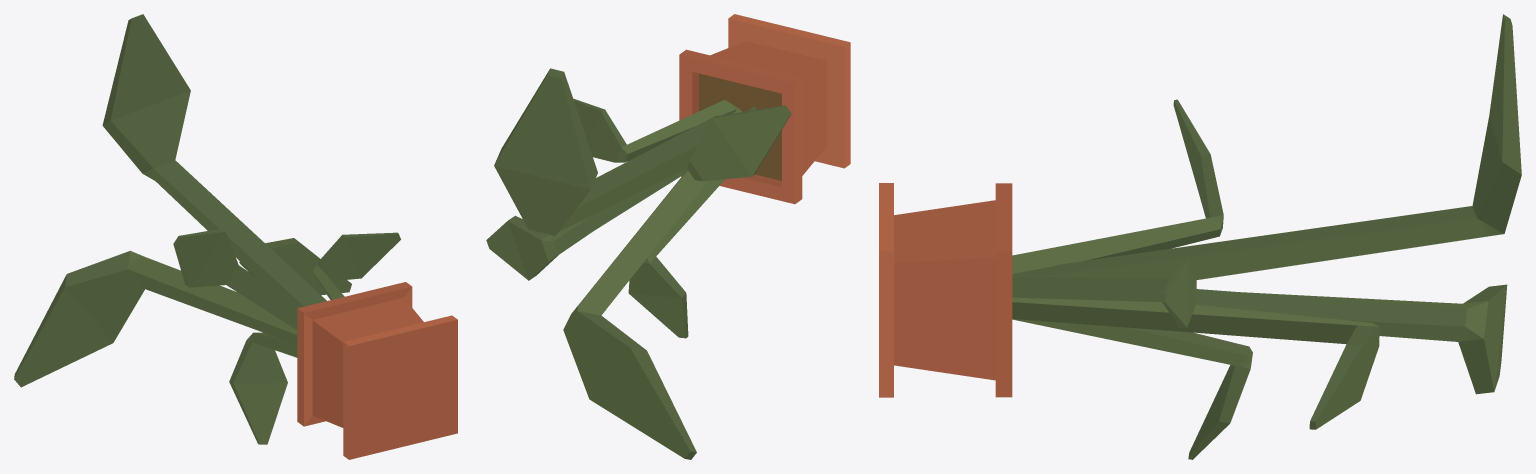
Rendered from Plant.glb.
The picture shows the model from 3 angles, left to right: view 1: azimuth 30°, elevation 25°; view 2: azimuth 150°, elevation 25°; view 3: azimuth 270°, elevation 25°; orthographic projection. The views are drawn at different scales.
Parts seen in each view (by area): view 1: SO_Plant_01; view 2: SO_Plant_01; view 3: SO_Plant_01.
Part boxes in pixels (box(x1,y1,x2,y2)): SO_Plant_01: box(14, 14, 457, 459); SO_Plant_01: box(486, 14, 850, 459); SO_Plant_01: box(879, 14, 1521, 459).
Size of the model in its own units: 1.47 by 1.8 by 2.39.
Materials: 1 (1 with a texture image).
